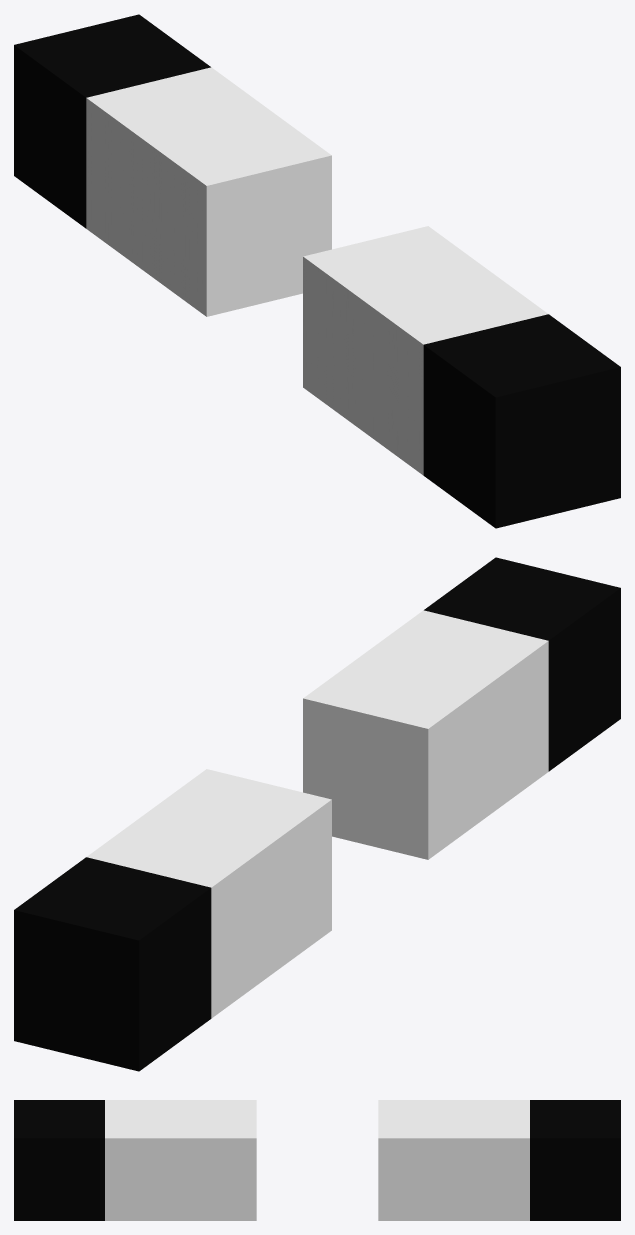
File: arms_base1.gltf
3 views of the same model, one above another, from view 1: azimuth 30°, elevation 25°; view 2: azimuth 150°, elevation 25°; view 3: azimuth 270°, elevation 25° (orthographic). The views are drawn at different scales.
Visible parts, largest first — view 1: Layer.1; view 2: Layer.1; view 3: Layer.1.
Part boxes in pixels (x1,y1,x2,y2): Layer.1: (14,14,620,528); Layer.1: (14,557,620,1071); Layer.1: (14,1100,620,1220).
Size of the model in its own units: 3 by 3 by 20.
Materials: 1 (1 with a texture image).
